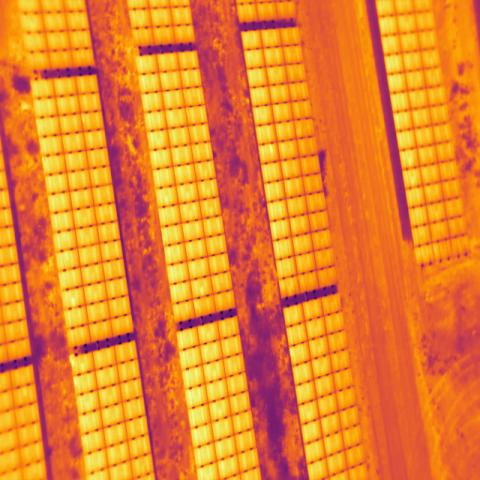fault: (257, 141, 281, 166)
